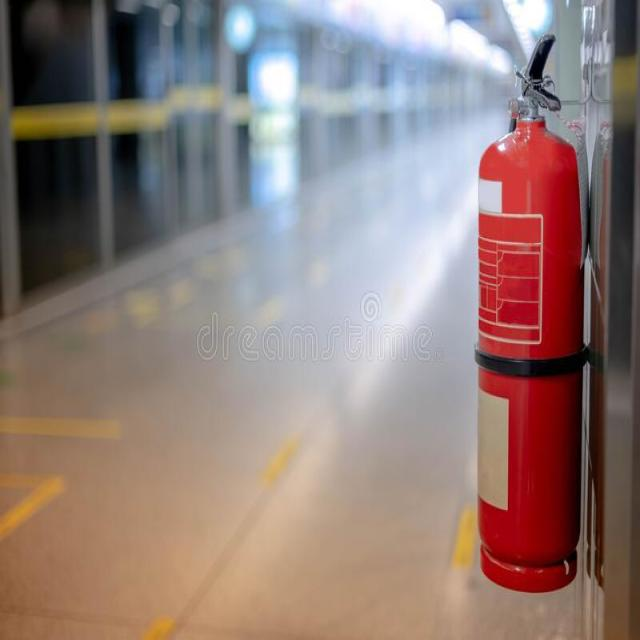fire_extinguisher: (469, 27, 586, 599)
